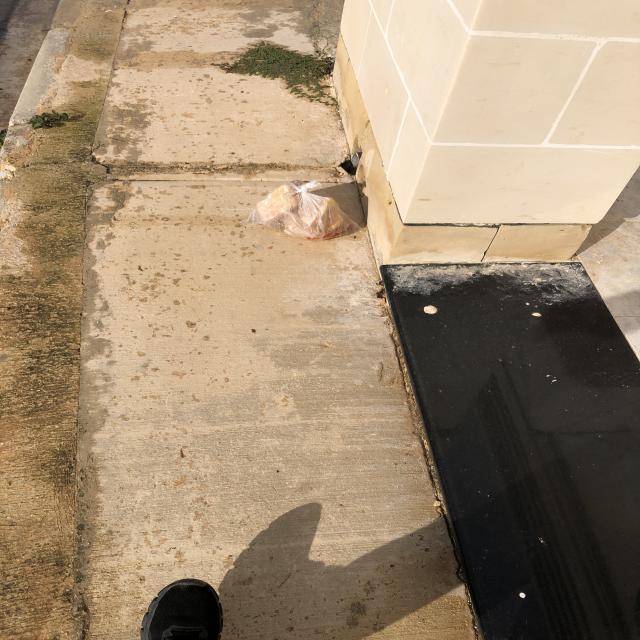Organic Waste -White Bag-: (243, 171, 371, 245)
